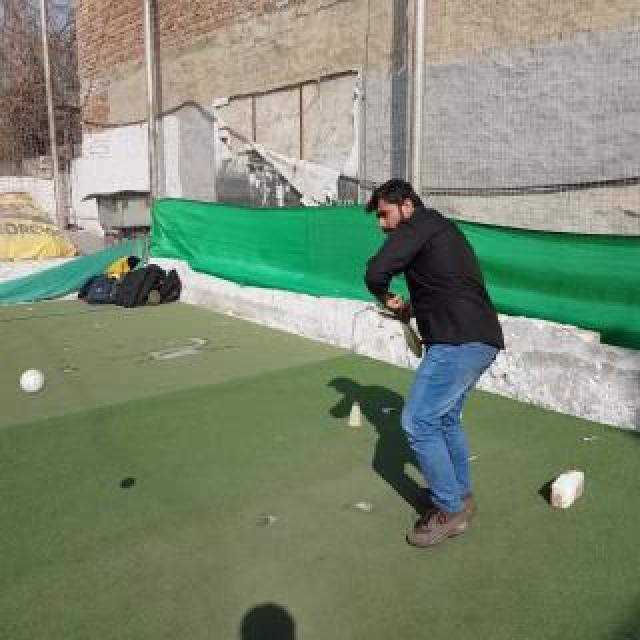ball: (20, 368, 46, 394)
